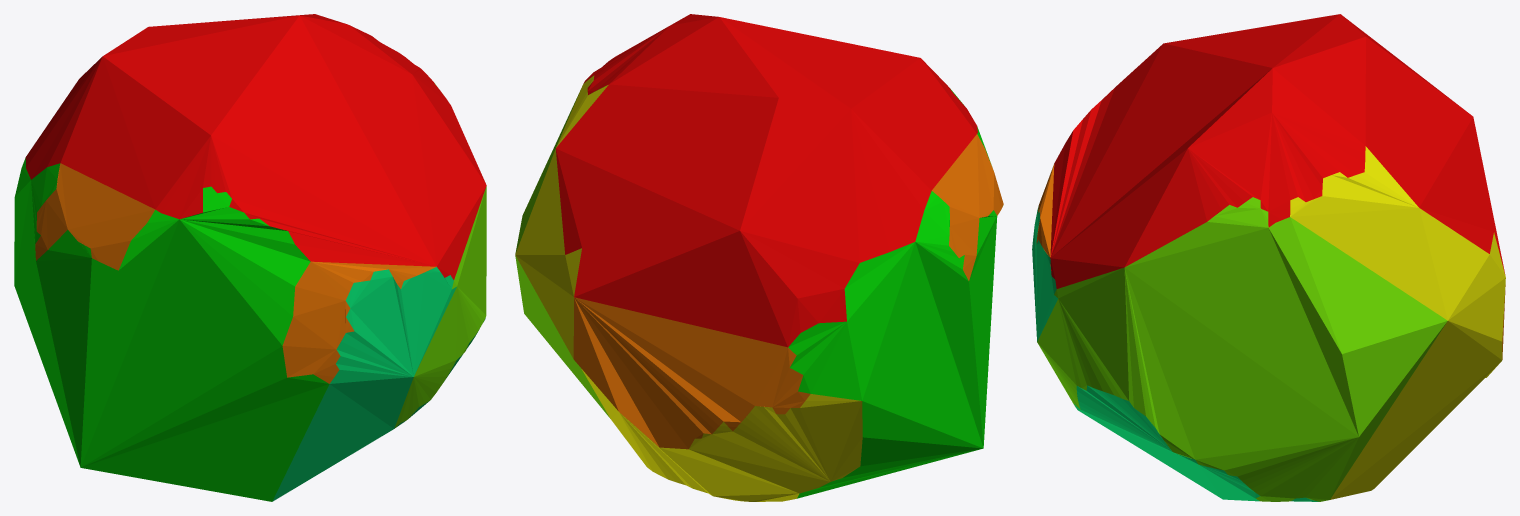
The model's file is SphereH_nanite_LOD6.fbx.
The picture shows the model from 3 angles, left to right: view 1: azimuth 30°, elevation 25°; view 2: azimuth 150°, elevation 25°; view 3: azimuth 270°, elevation 25°; orthographic projection. The views are drawn at different scales.
Bounding box in the file's own units: 1.95 × 2.06 × 1.94.
